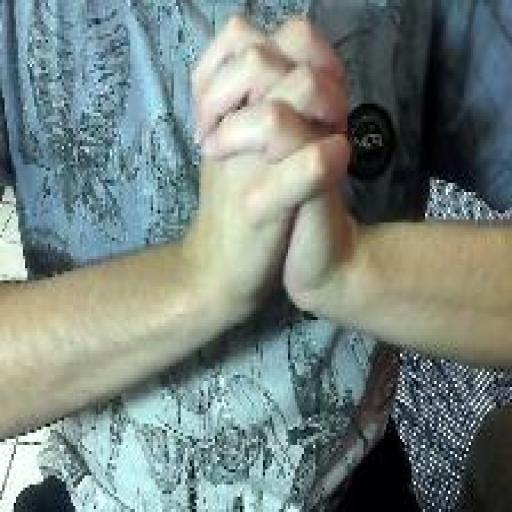Mi -snake-: (188, 9, 354, 332)
